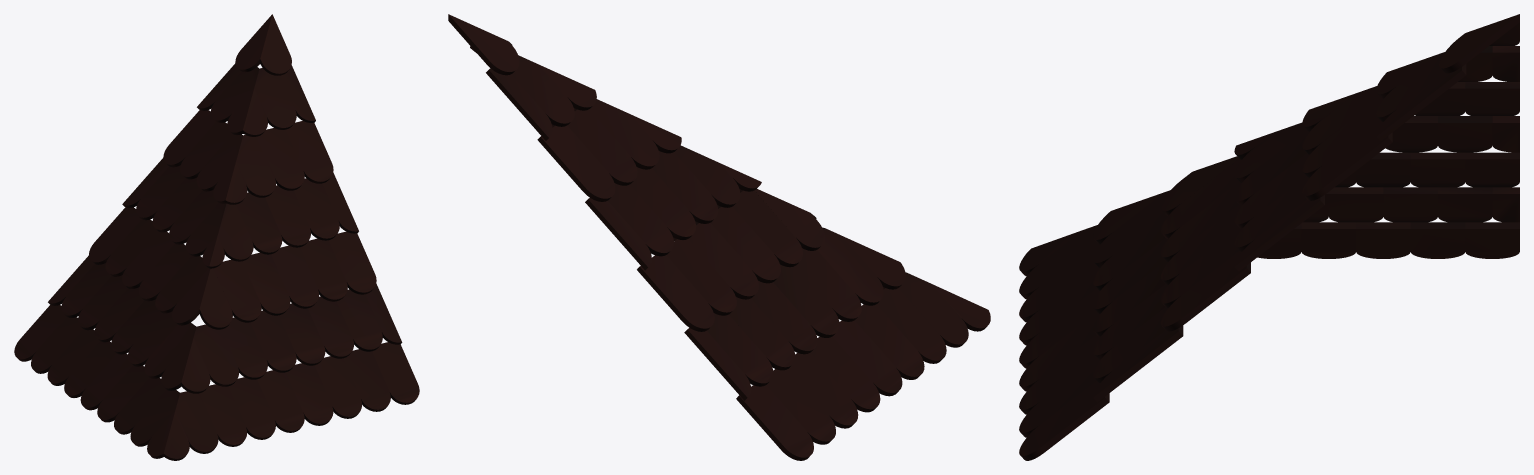
File: Roof_Corner_Convex.fbx
3 views of the same model, side by side, from view 1: azimuth 30°, elevation 25°; view 2: azimuth 150°, elevation 25°; view 3: azimuth 270°, elevation 25° (orthographic). The views are drawn at different scales.
Visible parts, largest first — view 1: Roof_Corner_Convex; view 2: Roof_Corner_Convex; view 3: Roof_Corner_Convex.
Boxes of the visible parts, x1=… form: Roof_Corner_Convex: x1=14, y1=14, x2=419, y2=460; Roof_Corner_Convex: x1=448, y1=14, x2=990, y2=460; Roof_Corner_Convex: x1=1019, y1=14, x2=1519, y2=460.
Bounding box in the file's own units: 100 × 100 × 100.
